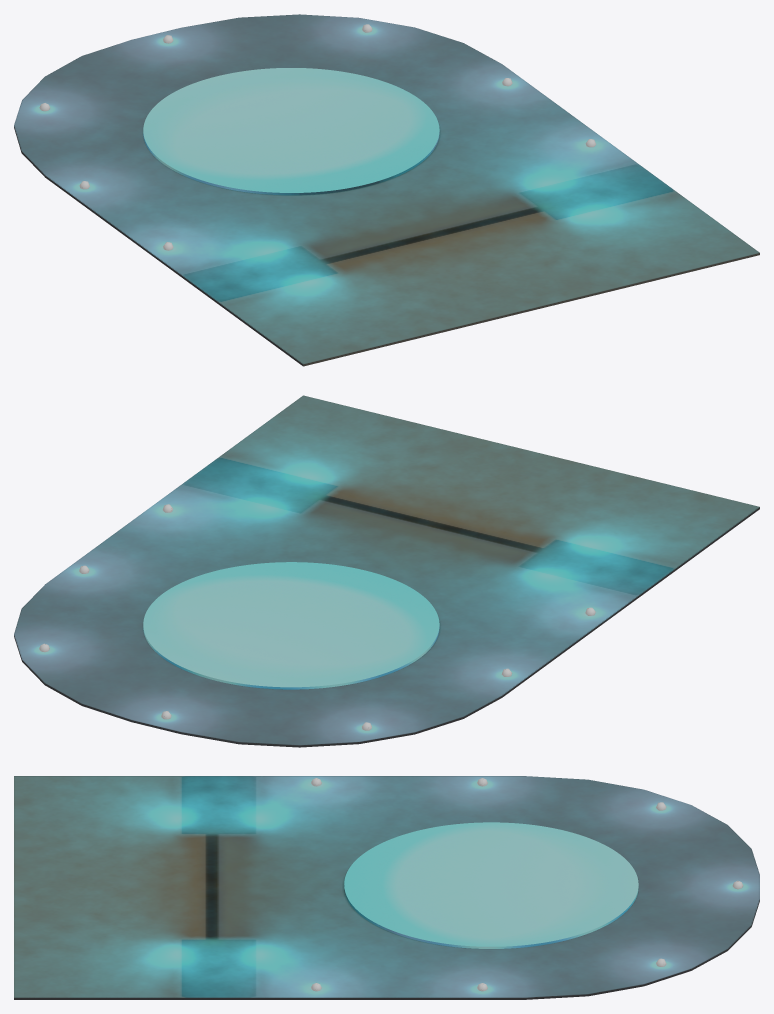
File: wams_balcony.glb
The picture shows the model from 3 angles, top to bottom: view 1: azimuth 30°, elevation 25°; view 2: azimuth 150°, elevation 25°; view 3: azimuth 270°, elevation 25°; orthographic projection.
Parts seen in each view (by area): view 1: balcony001; view 2: balcony001; view 3: balcony001.
Boxes of the visible parts, bbox=[...] form: balcony001: bbox=[14, 14, 759, 366]; balcony001: bbox=[14, 395, 759, 747]; balcony001: bbox=[14, 776, 759, 999].
Bounding box in the file's own units: 7.76 × 0.1623 × 11.05.
Materials: 1 (1 with a texture image).
